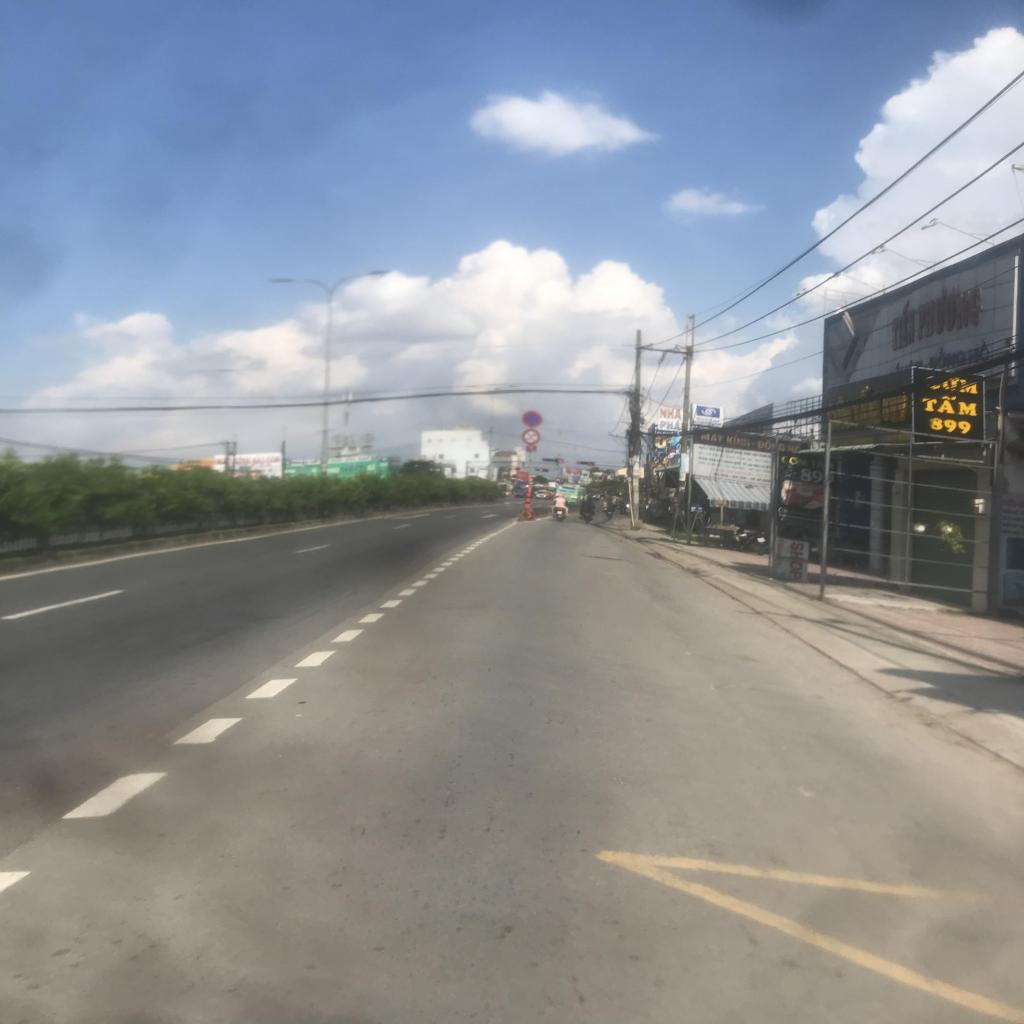cam_dung_xe_va_do_xe: (521, 410, 543, 427)
cam_xe_2_banh_va_xe_3_banh_co_dong_co: (521, 428, 541, 445)
